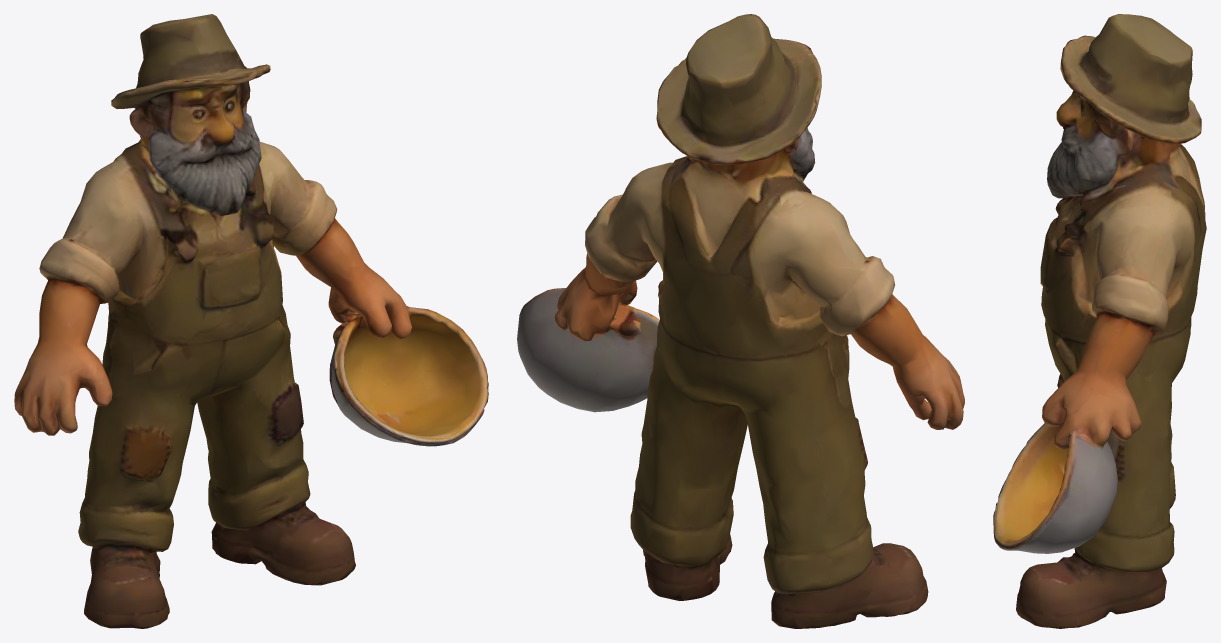
Rendered from char_gold_prospector.glb.
3 views of the same model, side by side, from view 1: azimuth 30°, elevation 25°; view 2: azimuth 150°, elevation 25°; view 3: azimuth 270°, elevation 25° (orthographic). The views are drawn at different scales.
Parts seen in each view (by area): view 1: geometry_0; view 2: geometry_0; view 3: geometry_0.
Part boxes in pixels (x1=…): geometry_0: x1=14, y1=14, x2=488, y2=628; geometry_0: x1=517, y1=14, x2=964, y2=628; geometry_0: x1=993, y1=14, x2=1206, y2=628.
Size of the model in its own units: 1.64 by 1.97 by 0.6882.
Materials: 1 (1 with a texture image).
